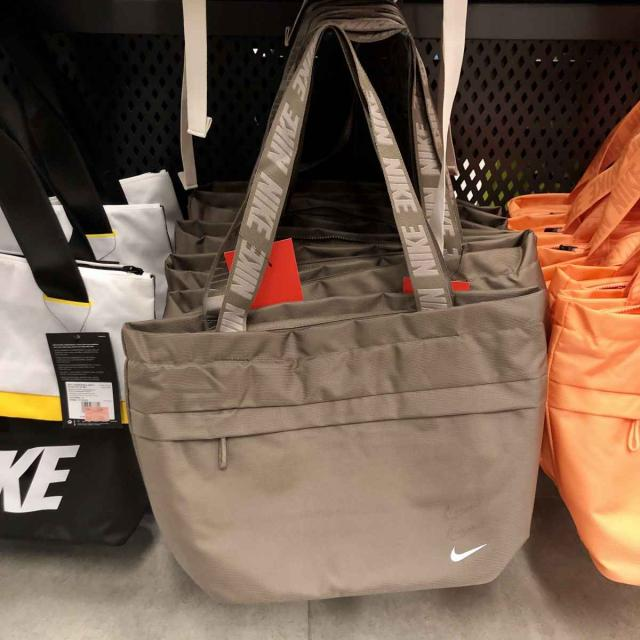handbag: (143, 225, 554, 617)
